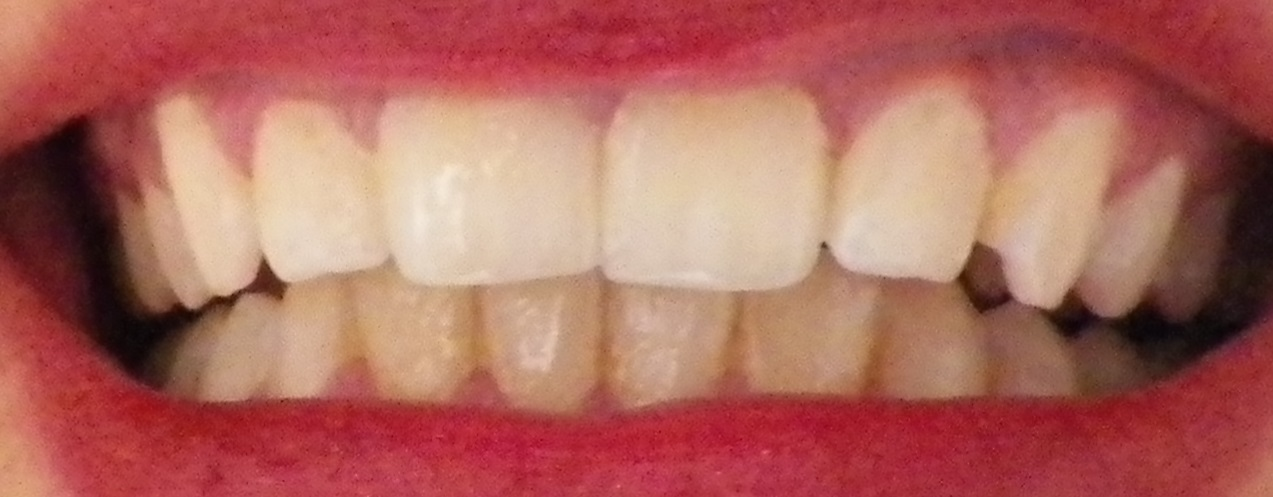boca: (92, 89, 1234, 407)
